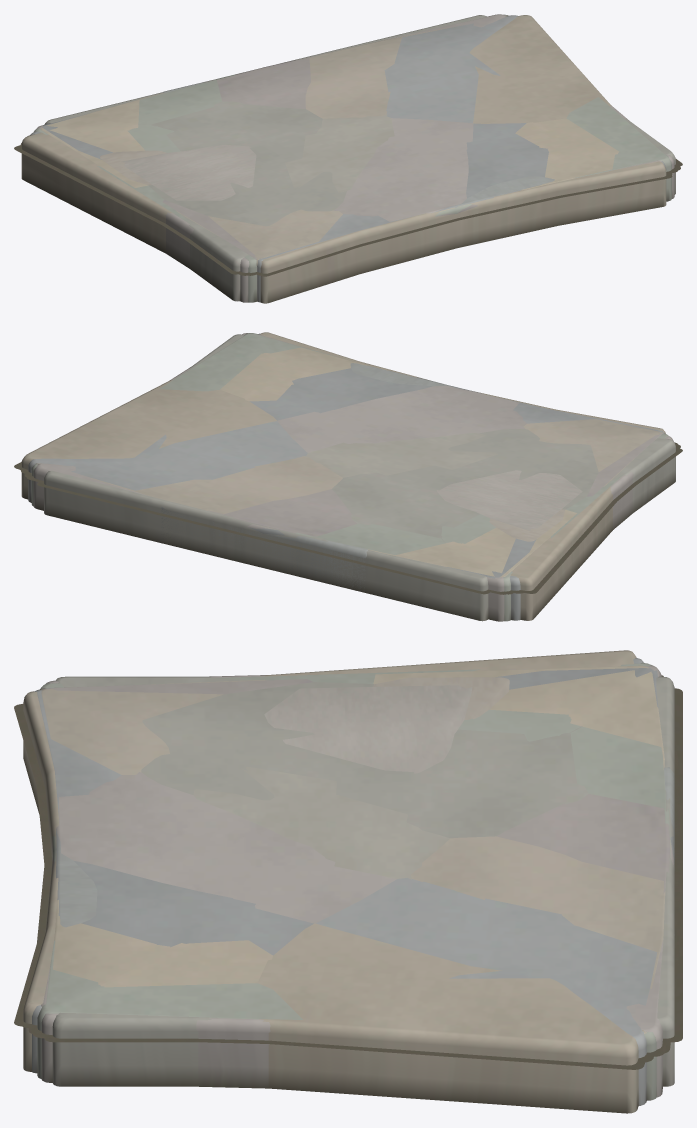
File: pr_paving.glb
3 renders of one model, top to bottom at view 1: azimuth 30°, elevation 25°; view 2: azimuth 150°, elevation 25°; view 3: azimuth 270°, elevation 25°, orthographic. The views are drawn at different scales.
Parts seen in each view (by area): view 1: ring0, fill, ring7, ring1, ring2, ring4, ring5, kerb, ring6, ring8, ring3, corner (+1 smaller); view 2: fill, ring0, ring7, ring1, ring2, ring4, ring5, kerb, ring6, corner, ring8, ring3 (+1 smaller); view 3: ring0, fill, ring7, ring1, ring2, ring4, ring5, kerb, ring6, ring8, ring3, corner (+1 smaller).
Part boxes in pixels (x1,y1,x2,y2): ring0: (14, 15, 672, 303); fill: (44, 15, 682, 301); ring7: (27, 14, 680, 302); ring1: (20, 15, 672, 302); ring2: (176, 15, 668, 274); ring4: (34, 14, 677, 302); ring5: (41, 93, 677, 274); kerb: (122, 145, 256, 200); ring6: (42, 114, 676, 274); ring8: (202, 114, 394, 248); ring3: (163, 54, 672, 301); corner: (162, 82, 554, 222); fill: (37, 334, 682, 621); ring0: (14, 332, 665, 620); ring7: (26, 333, 680, 621); ring1: (20, 333, 664, 620); ring2: (25, 335, 662, 593); ring4: (24, 333, 677, 621); ring5: (30, 347, 677, 593); kerb: (437, 470, 582, 530); ring6: (31, 365, 676, 593); corner: (152, 363, 456, 591); ring8: (302, 432, 497, 477); ring3: (28, 334, 663, 593); ring0: (14, 650, 682, 1113); fill: (44, 676, 682, 1086); ring7: (33, 665, 682, 1097); ring1: (20, 658, 681, 1105); ring2: (29, 679, 682, 1057); ring4: (28, 662, 682, 1100); ring5: (30, 665, 682, 1052); kerb: (264, 685, 472, 773); ring6: (32, 668, 682, 1051); ring8: (140, 766, 449, 1042); ring3: (28, 679, 682, 1054); corner: (44, 767, 682, 947).
Size of the model in its own units: 1.41 by 0.1079 by 0.9732.
Materials: 1 (1 with a texture image).
